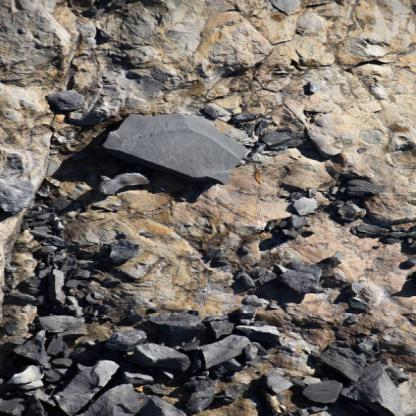Sedimentary_Limestone: (100, 105, 268, 193)
